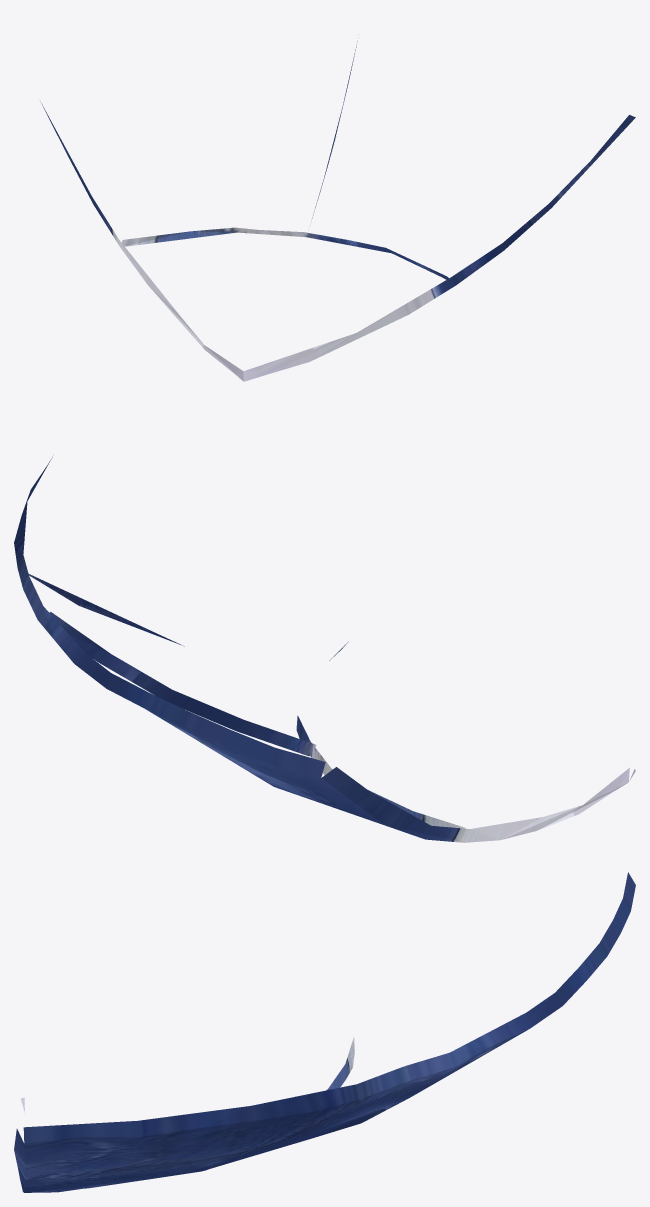
The picture shows the model from 3 angles, top to bottom: view 1: azimuth 30°, elevation 25°; view 2: azimuth 150°, elevation 25°; view 3: azimuth 270°, elevation 25°; orthographic projection. The views are drawn at different scales.
Bounding box in the file's own units: 4636192 × 2012877 × 4630458.
1 material, 1 textured.
